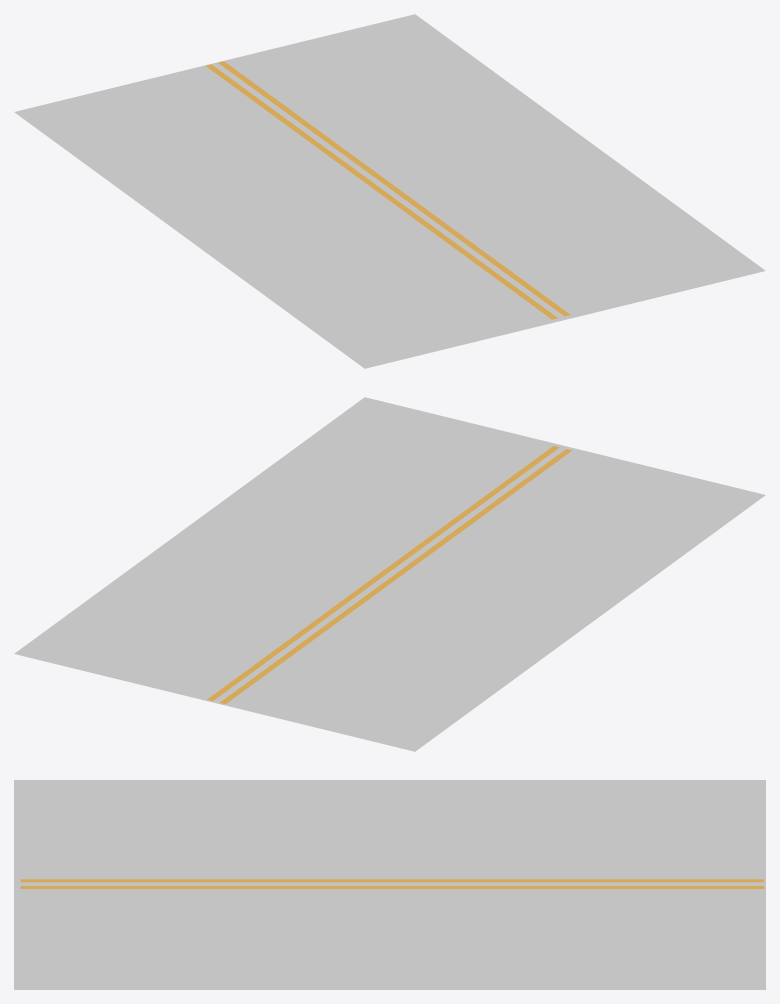
File: 停车场.FBX
3 renders of one model, top to bottom at view 1: azimuth 30°, elevation 25°; view 2: azimuth 150°, elevation 25°; view 3: azimuth 270°, elevation 25°, orthographic. The views are drawn at different scales.
Visible parts, largest first — view 1: Plane001, Plane010, Plane005, Plane009, Plane011, Plane002, Plane004, Plane013, Plane006, Plane007, Plane008, Plane003 (+3 smaller); view 2: Plane001, Plane007, Plane009, Plane006, Plane003, Plane004, Plane008, Plane013, Plane002, Plane010, Plane011, Plane012 (+3 smaller); view 3: Plane001, Plane008, Plane010, Plane011, Plane012, Plane013, Plane009, Plane002, Plane004, Plane005, Plane006, Plane007 (+3 smaller).
Boxes of the visible parts, x1,y1,x2,y2 form: Plane001: (14, 14, 765, 368); Plane010: (198, 206, 390, 277); Plane005: (378, 105, 569, 176); Plane009: (257, 249, 448, 320); Plane011: (140, 163, 331, 234); Plane002: (554, 234, 745, 304); Plane004: (437, 148, 628, 219); Plane013: (24, 78, 215, 149); Plane006: (319, 62, 511, 133); Plane007: (262, 20, 453, 91); Plane008: (316, 292, 507, 363); Plane003: (496, 191, 686, 261); Plane001: (14, 397, 765, 751); Plane007: (33, 618, 224, 688); Plane009: (504, 505, 695, 575); Plane006: (90, 576, 281, 646); Plane003: (266, 447, 457, 517); Plane004: (207, 490, 399, 560); Plane008: (563, 462, 754, 533); Plane013: (271, 676, 462, 746); Plane002: (325, 404, 516, 474); Plane010: (446, 548, 637, 618); Plane011: (387, 591, 578, 661); Plane012: (328, 634, 520, 704); Plane001: (14, 780, 765, 989); Plane008: (25, 782, 131, 857); Plane010: (276, 782, 382, 857); Plane011: (402, 782, 508, 857); Plane012: (528, 782, 634, 857); Plane013: (650, 782, 756, 857); Plane009: (151, 782, 256, 857); Plane002: (25, 907, 131, 981); Plane004: (276, 907, 382, 981); Plane005: (402, 907, 508, 981); Plane006: (528, 907, 634, 981); Plane007: (650, 907, 756, 981).
Bounding box in the file's own units: 4.49 × 0.00413 × 6.8.
